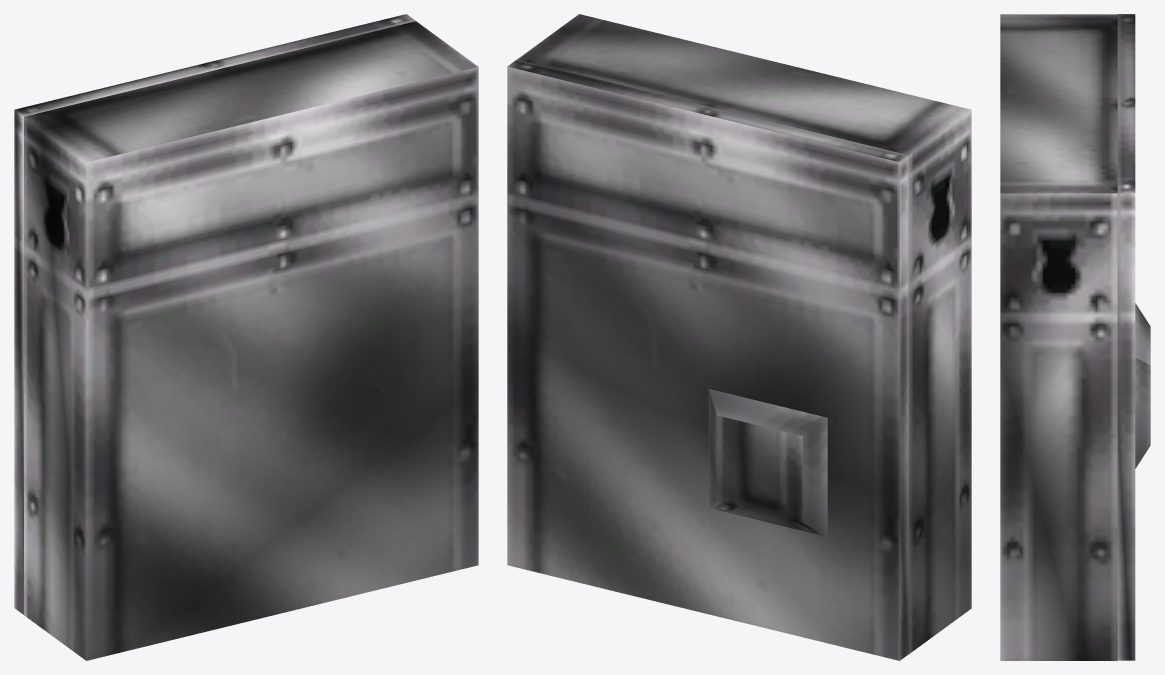
File: INST_SWORDLIGHT_LOCKBOX_SILVER.obj
3 views of the same model, side by side, from view 1: azimuth 30°, elevation 25°; view 2: azimuth 150°, elevation 25°; view 3: azimuth 270°, elevation 25° (orthographic). The views are drawn at different scales.
Visible parts, largest first — view 1: lockbox_Lod1_01, boxDoor_Lod1_01; view 2: boxDoor_Lod1_01, lockbox_Lod1_01; view 3: lockbox_Lod1_01, boxDoor_Lod1_01.
Boxes of the visible parts, bbox=[...] form: lockbox_Lod1_01: bbox=[24, 21, 478, 660]; boxDoor_Lod1_01: bbox=[14, 14, 415, 614]; boxDoor_Lod1_01: bbox=[507, 59, 909, 660]; lockbox_Lod1_01: bbox=[517, 14, 971, 653]; lockbox_Lod1_01: bbox=[1000, 14, 1117, 660]; boxDoor_Lod1_01: bbox=[1117, 14, 1150, 660].
Bounding box in the file's own units: 70.01 × 85.03 × 24.76.
